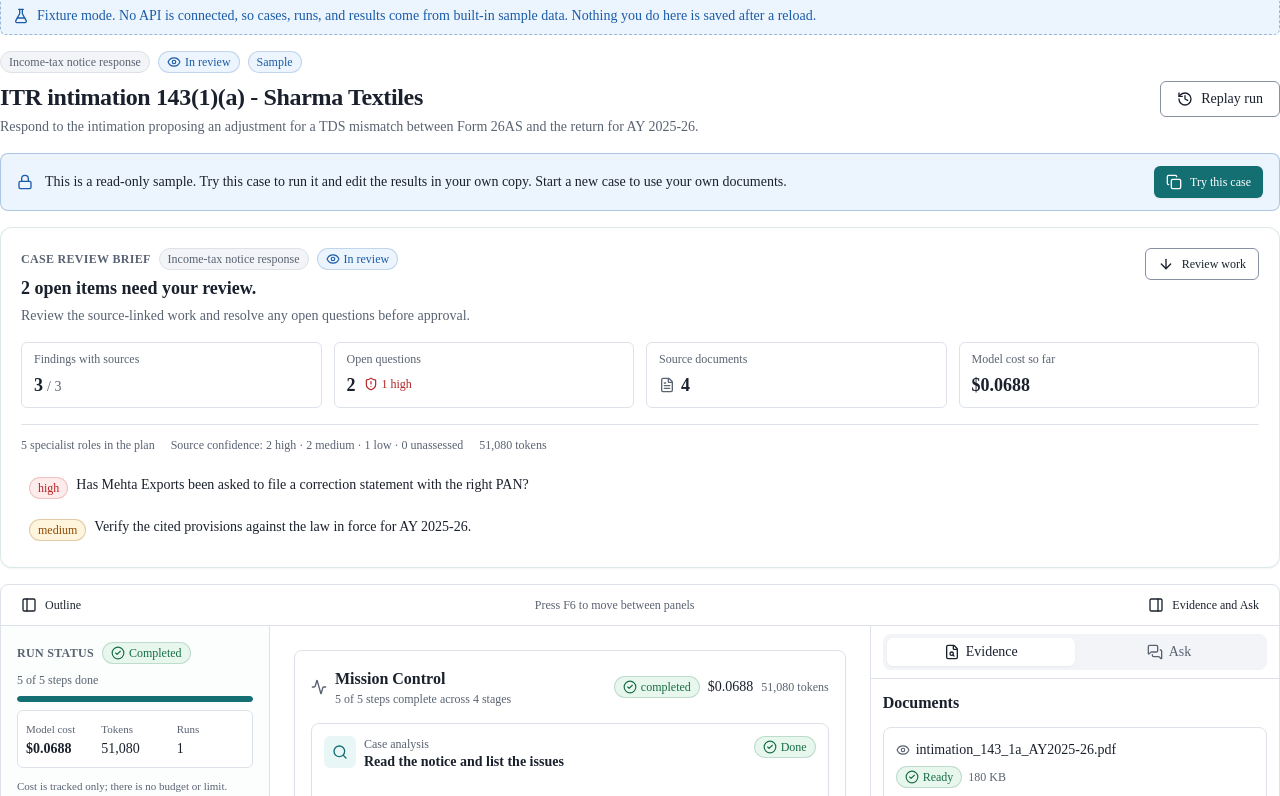
Scenario: review workspace › refreshes usage after a failed Ask request
The width and height of the screenshot is (1280, 796).
Press the mouse on the tab "Ask": x=1169, y=652 [1075, 638, 1263, 666]
(page scrolled)
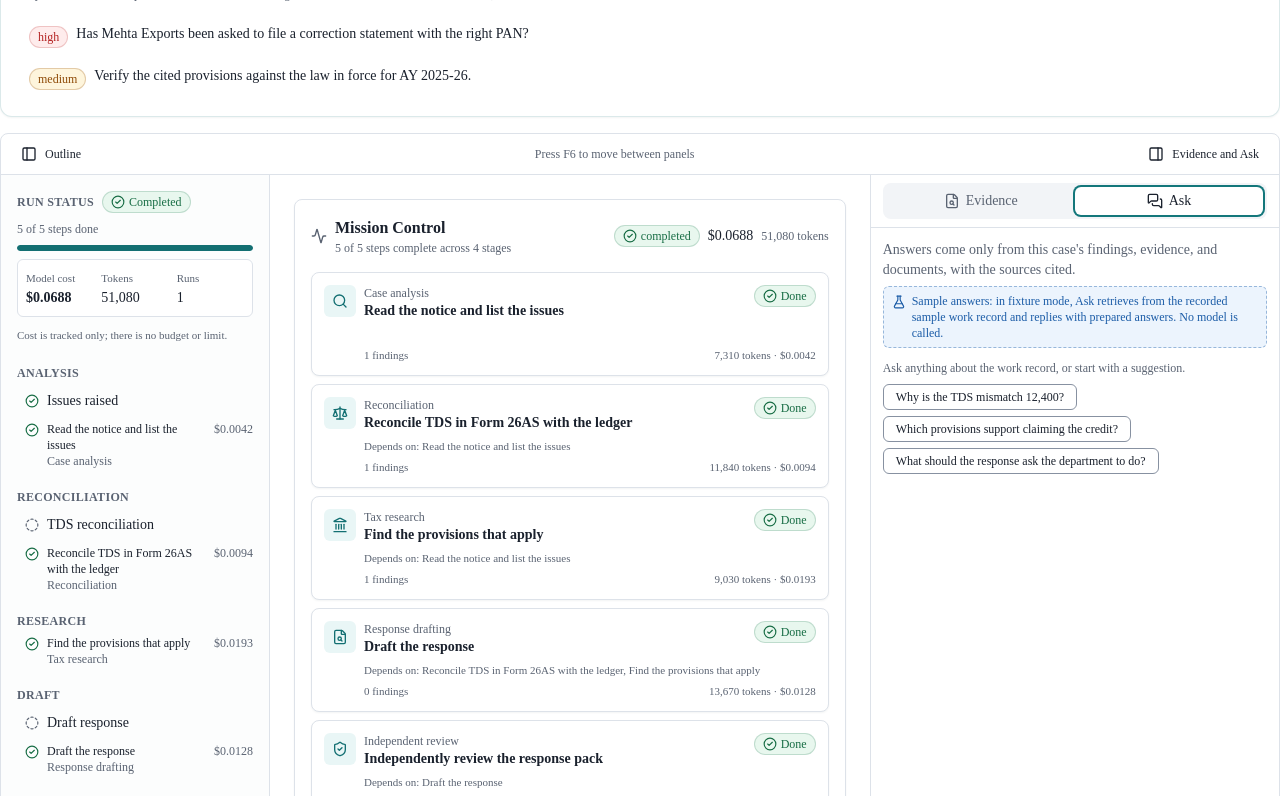
Click the button "Why is the TDS mismatch 12,400?": x=980, y=397 [883, 384, 1077, 410]
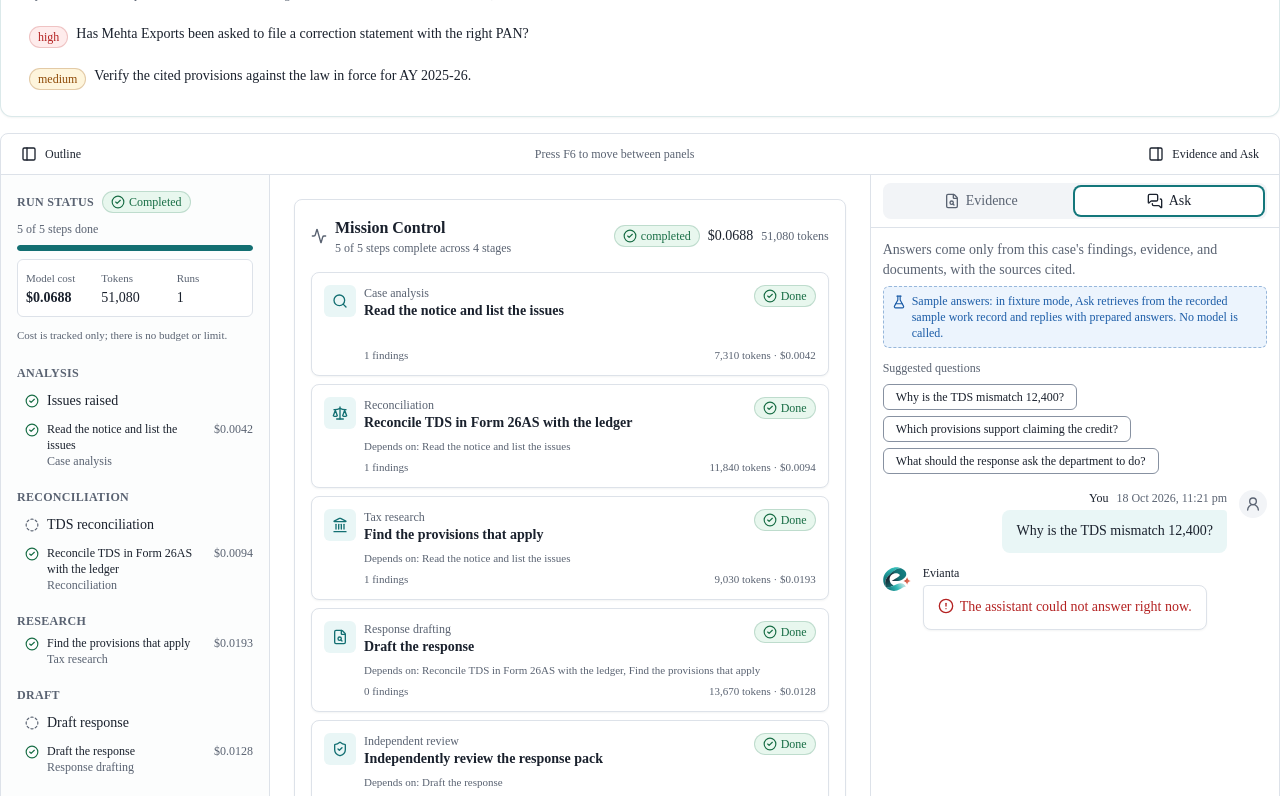
Expected: the text "The assistant could not answer right now." is shown, [960, 596, 1192, 619]
